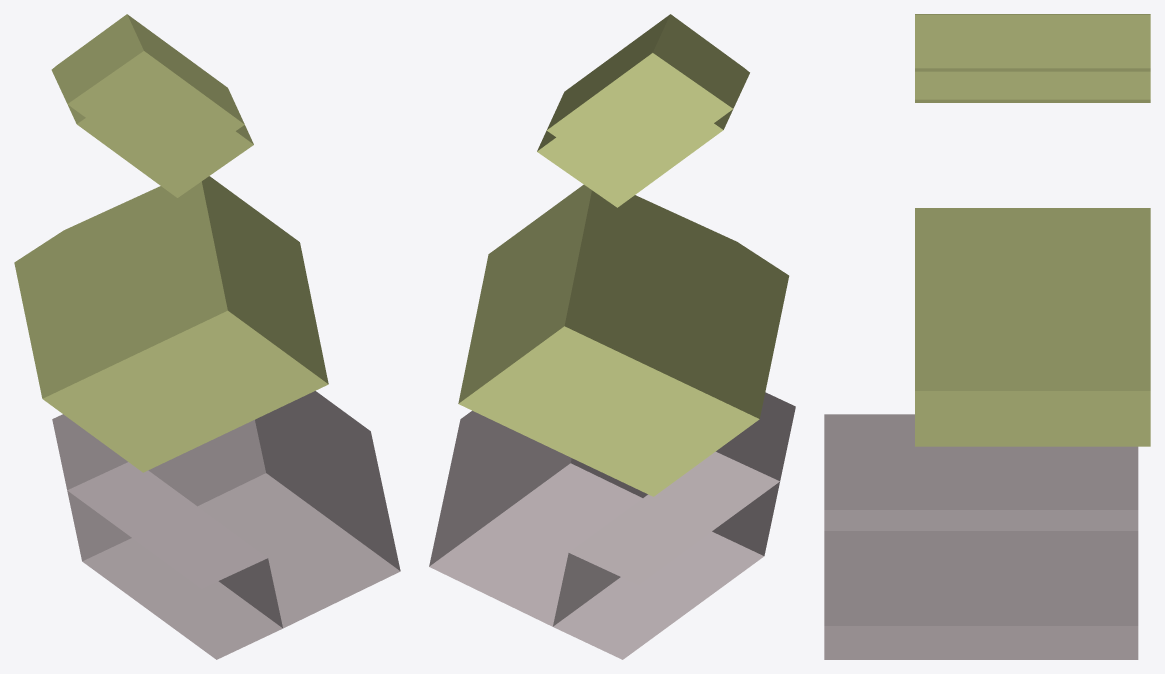
The picture shows the model from 3 angles, left to right: view 1: azimuth 30°, elevation 25°; view 2: azimuth 150°, elevation 25°; view 3: azimuth 270°, elevation 25°; orthographic projection. The views are drawn at different scales.
Parts seen in each view (by area): view 1: 0_2_2_0_0_0_1_3; view 2: 0_2_2_0_0_0_1_3; view 3: 0_2_2_0_0_0_1_3.
Part boxes in pixels (x1,y1,x2,y2): 0_2_2_0_0_0_1_3: (14,14,400,659); 0_2_2_0_0_0_1_3: (429,14,795,659); 0_2_2_0_0_0_1_3: (824,14,1150,659).
Size of the model in its own units: 12.7 by 26.15 by 12.47.
